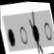correct: (6, 26, 16, 49)
not correct: (27, 9, 43, 54)
